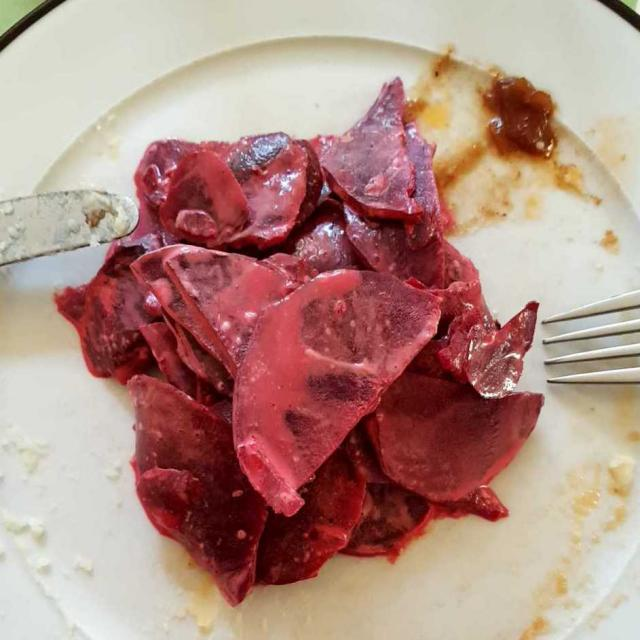beetroot-raw: (66, 74, 563, 596)
salad-dressing: (102, 134, 404, 507)
